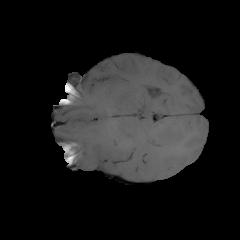glioma: (149, 123, 186, 151)
